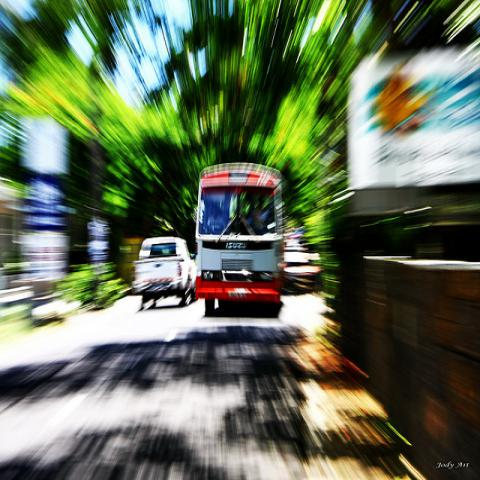bus: (196, 175, 283, 315)
car: (130, 236, 197, 304), (282, 231, 323, 289)
truck: (128, 234, 195, 311)
